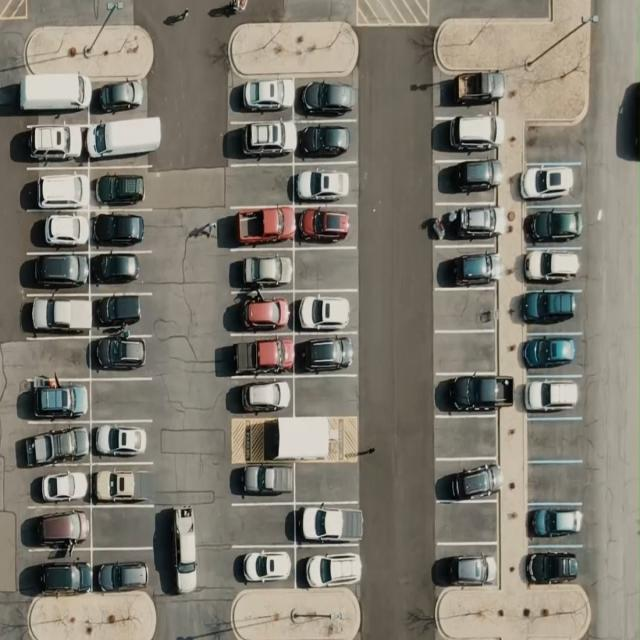space-empty: (223, 501, 294, 546), (223, 162, 292, 206), (524, 115, 588, 162), (436, 414, 501, 460), (434, 286, 498, 332), (22, 337, 90, 380), (434, 330, 501, 373), (436, 501, 500, 546), (293, 246, 357, 291), (294, 374, 358, 419), (522, 418, 588, 461), (293, 460, 358, 502), (88, 380, 156, 420), (92, 506, 156, 548), (526, 462, 586, 502)
space-occupied: (14, 70, 90, 121), (88, 114, 160, 166), (434, 370, 506, 417), (21, 290, 90, 338), (26, 373, 90, 424), (434, 202, 502, 250), (294, 498, 359, 548), (220, 543, 295, 586), (20, 118, 87, 166), (226, 372, 294, 418), (434, 112, 505, 156), (26, 414, 88, 464), (434, 544, 501, 590), (90, 461, 158, 506), (434, 245, 501, 290), (518, 245, 585, 290), (518, 159, 582, 206), (226, 120, 294, 164), (520, 332, 588, 376), (436, 459, 501, 505), (26, 550, 91, 596), (294, 288, 357, 335), (432, 70, 502, 112), (27, 461, 92, 506), (519, 371, 584, 416), (226, 248, 294, 291), (225, 205, 293, 248), (434, 158, 502, 201), (89, 164, 155, 208), (517, 288, 583, 332), (294, 204, 358, 249), (293, 161, 357, 206), (91, 418, 155, 463), (24, 165, 88, 210), (228, 78, 294, 121), (92, 549, 154, 594), (90, 209, 156, 251), (293, 334, 357, 377), (294, 78, 358, 121), (522, 206, 586, 249), (27, 210, 90, 253), (526, 501, 586, 546), (228, 294, 292, 336), (90, 74, 150, 118), (25, 252, 91, 292), (90, 250, 151, 292), (26, 508, 93, 546), (234, 461, 293, 504), (296, 121, 356, 163), (90, 335, 150, 376), (301, 550, 362, 590), (91, 294, 152, 334), (526, 546, 586, 586), (230, 337, 290, 374)
